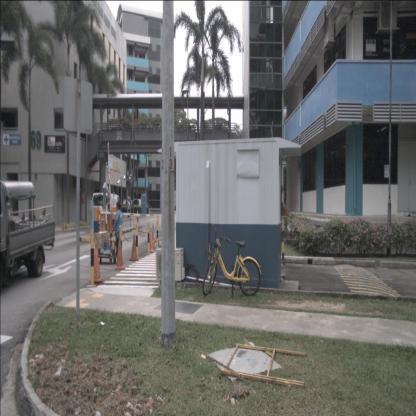human-pedestrian-adult: (110, 201, 122, 267), (128, 199, 130, 216)
movable_object-trafficcone: (90, 242, 102, 283), (115, 237, 125, 270), (129, 235, 139, 260), (148, 233, 154, 252)
vehicle-bicycle: (202, 223, 262, 296)
vehicle-car: (92, 192, 123, 231)
vehicle-truck: (0, 179, 56, 287)
